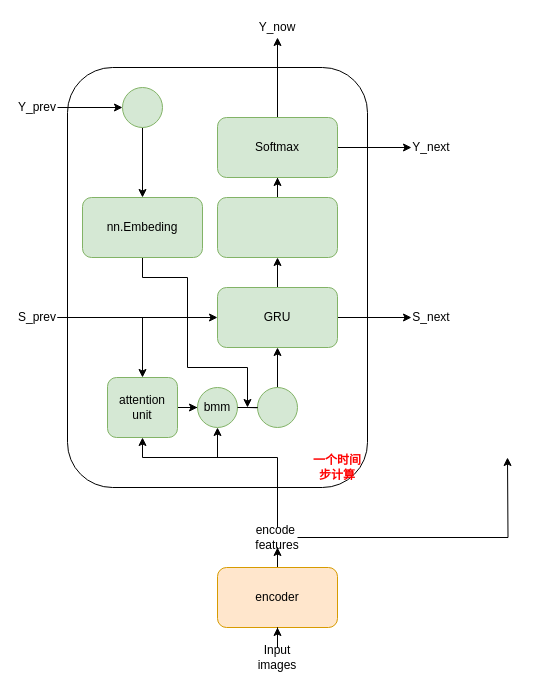
Some shapes in this 533 by 689 pixel diagram are drawn without their labels. The shapes that lost their labels are listed below. From the top down, each one's centre as x and y in pixels, then its label:
At pixel 142 107: "argmax".
At pixel 277 227: "FC".
At pixel 277 407: "concat".
